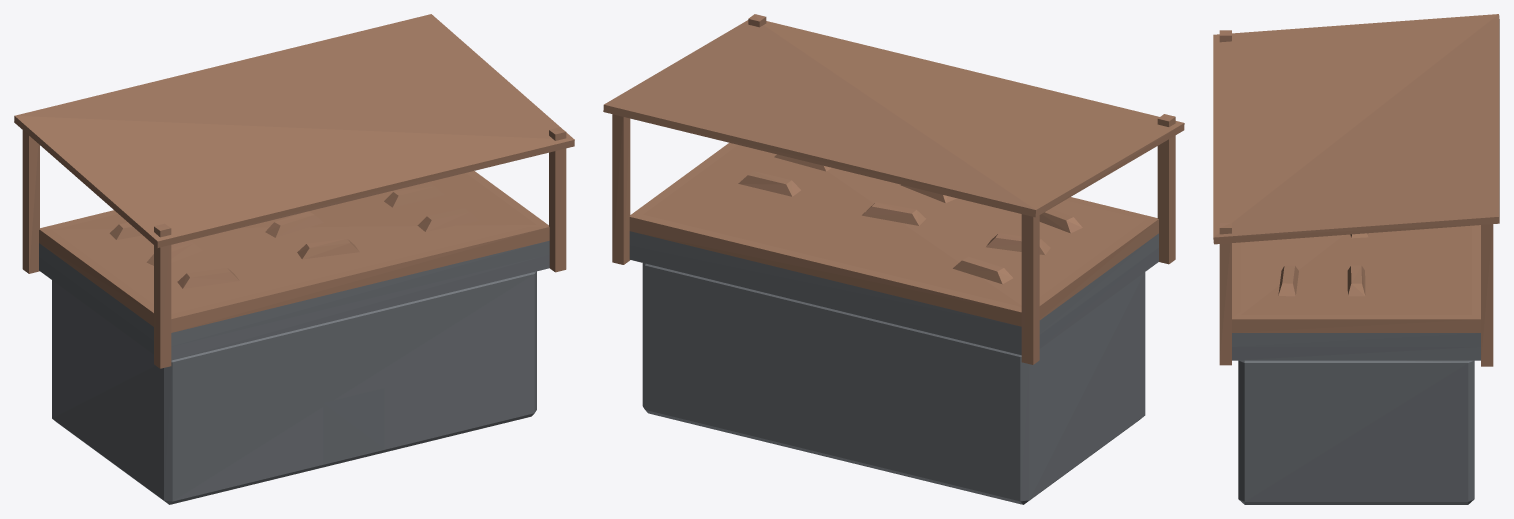
Rendered from fish-smoker-00.glb.
The picture shows the model from 3 angles, left to right: view 1: azimuth 30°, elevation 25°; view 2: azimuth 150°, elevation 25°; view 3: azimuth 270°, elevation 25°; orthographic projection. The views are drawn at different scales.
Parts seen in each view (by area): view 1: fish_smoker_00; view 2: fish_smoker_00; view 3: fish_smoker_00.
Part boxes in pixels (bbox=[...]): fish_smoker_00: bbox=[14, 14, 574, 504]; fish_smoker_00: bbox=[603, 14, 1184, 504]; fish_smoker_00: bbox=[1213, 14, 1499, 504].
Size of the model in its own units: 1.9 by 1.32 by 1.13.
